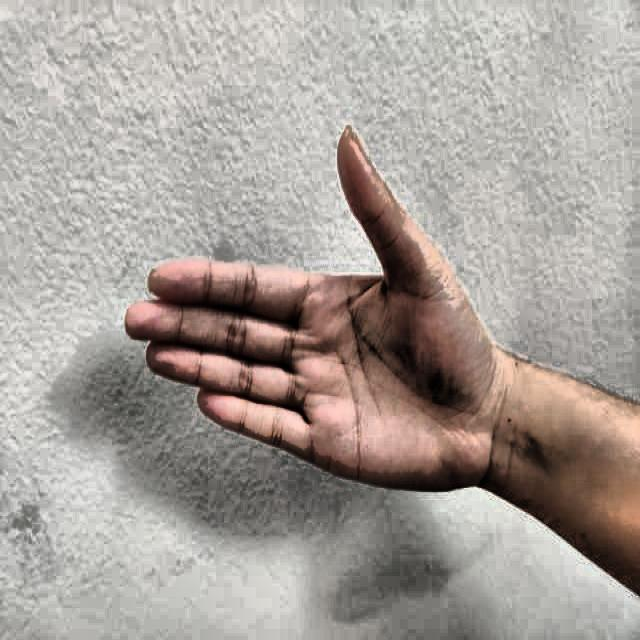Aa: (106, 111, 492, 519)
